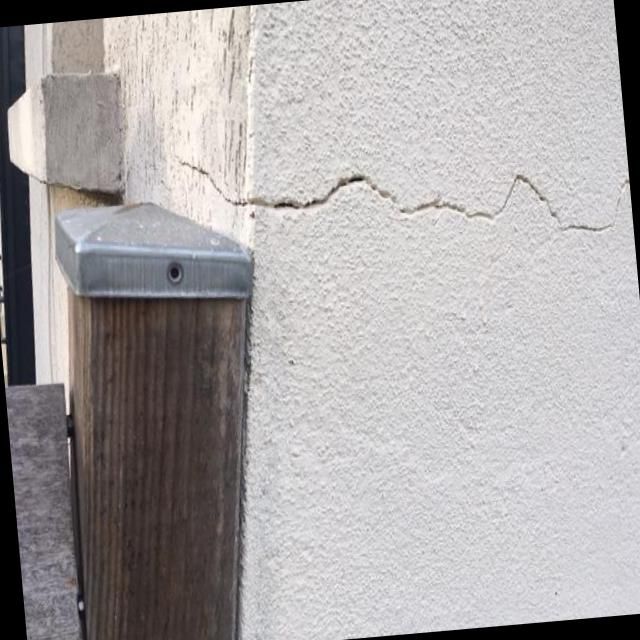crack: (175, 149, 401, 215), (398, 172, 629, 232)
